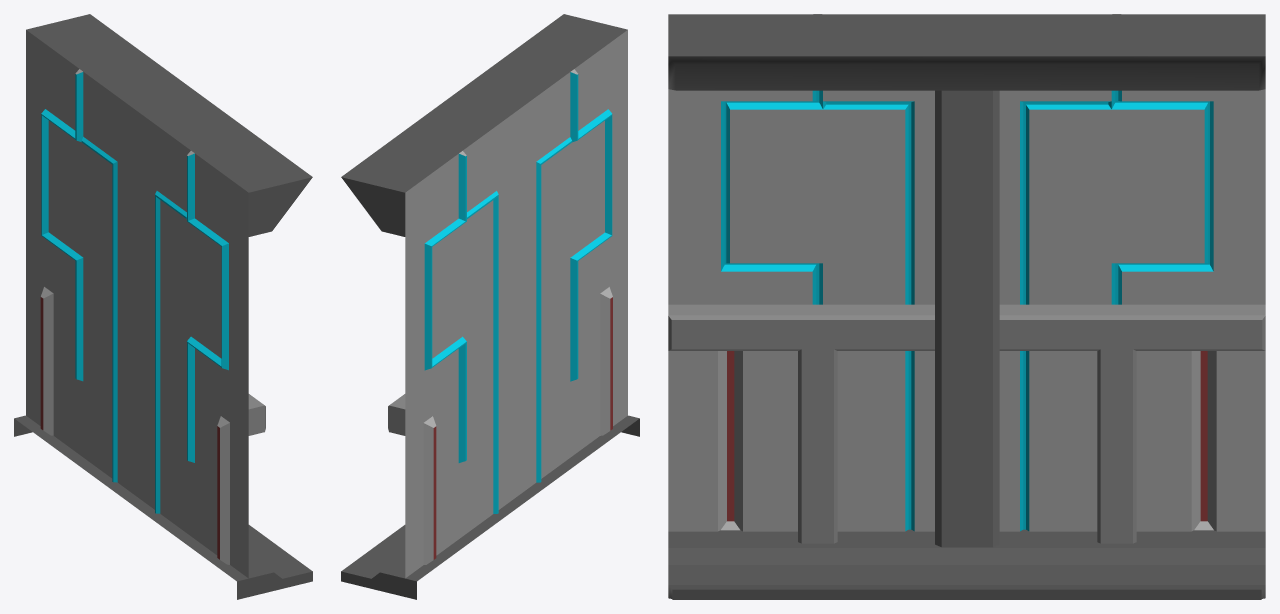
File: SM_Module_10.fbx
3 renders of one model, left to right at view 1: azimuth 30°, elevation 25°; view 2: azimuth 150°, elevation 25°; view 3: azimuth 270°, elevation 25°, orthographic. The views are drawn at different scales.
Parts seen in each view (by area): view 1: SM_Module_04; view 2: SM_Module_04; view 3: SM_Module_04.
Part boxes in pixels (box(x1,y1,x2,y2)): SM_Module_04: box(14, 14, 312, 599); SM_Module_04: box(341, 14, 639, 599); SM_Module_04: box(668, 14, 1265, 599).
Bounding box in the file's own units: 120 × 601 × 599.
